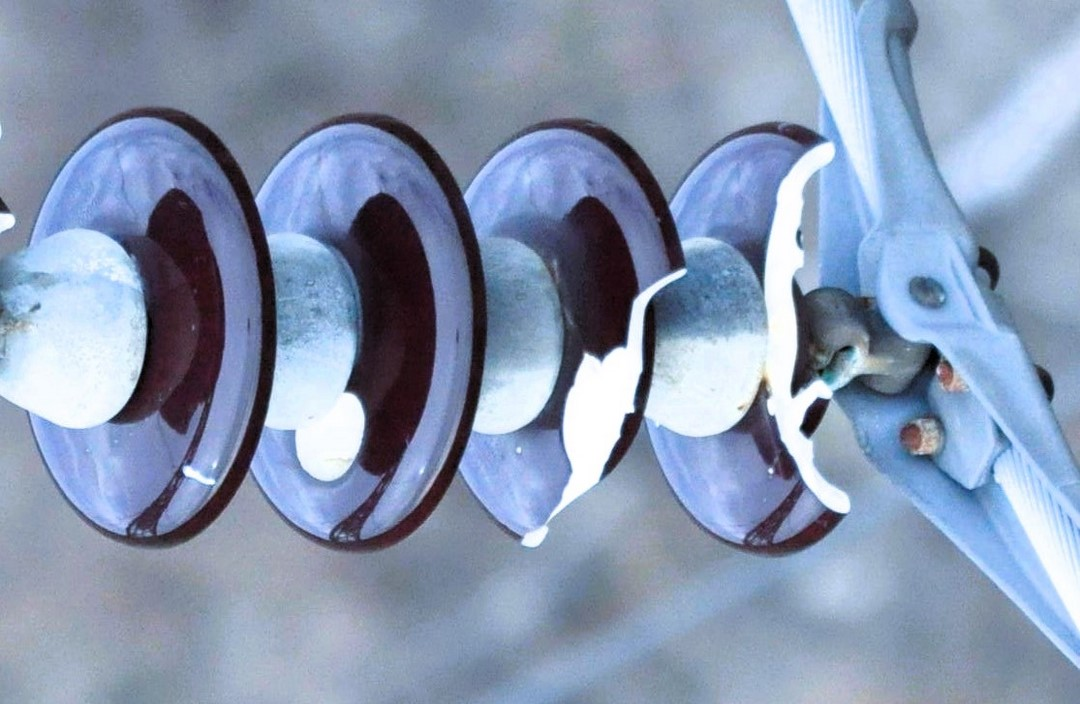insulator breakage: (453, 106, 691, 550), (698, 119, 858, 559)
